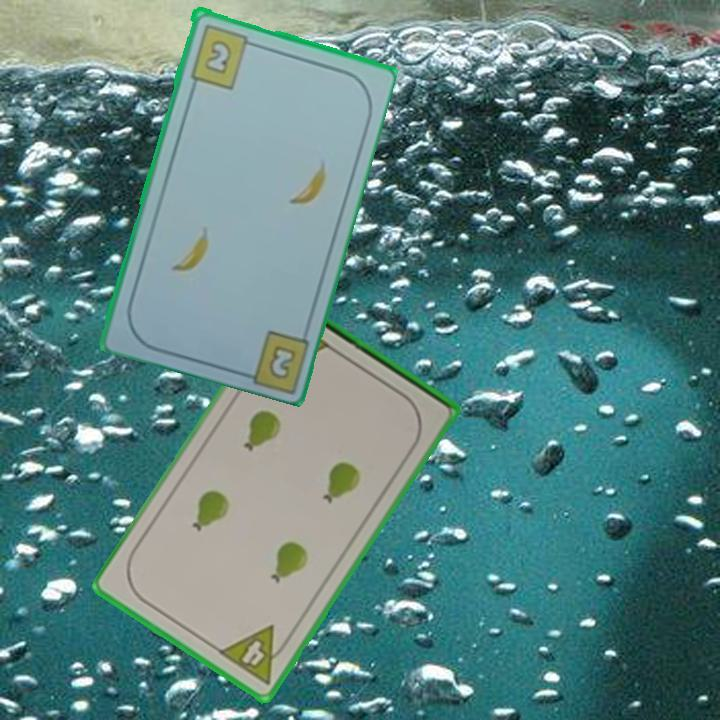2b: (186, 20, 259, 91), (264, 341, 299, 382)
4p: (215, 622, 295, 688)
